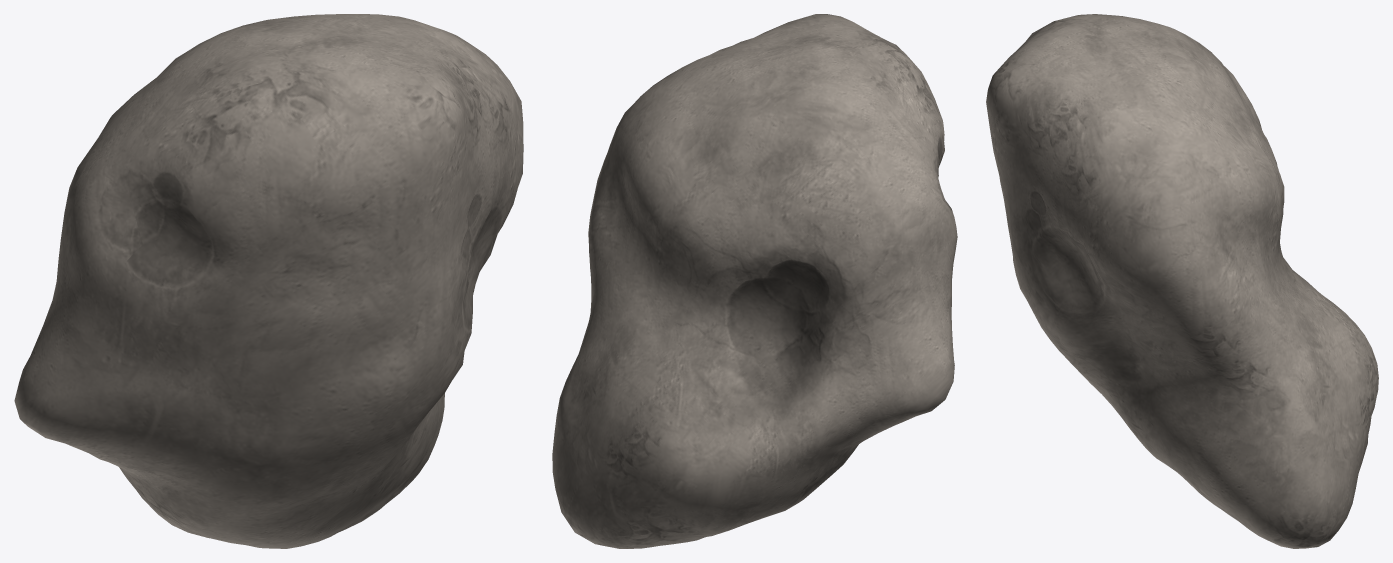
The model's file is asteroid_s_template.glb.
The picture shows the model from 3 angles, left to right: view 1: azimuth 30°, elevation 25°; view 2: azimuth 150°, elevation 25°; view 3: azimuth 270°, elevation 25°; orthographic projection. The views are drawn at different scales.
Parts seen in each view (by area): view 1: asteroid_01; view 2: asteroid_01; view 3: asteroid_01.
Boxes of the visible parts, x1,y1,x2,y2 form: asteroid_01: (14, 14, 523, 548); asteroid_01: (552, 14, 957, 548); asteroid_01: (986, 14, 1378, 548).
Bounding box in the file's own units: 1.09 × 1.32 × 1.03.
Materials: 1 (1 with a texture image).
